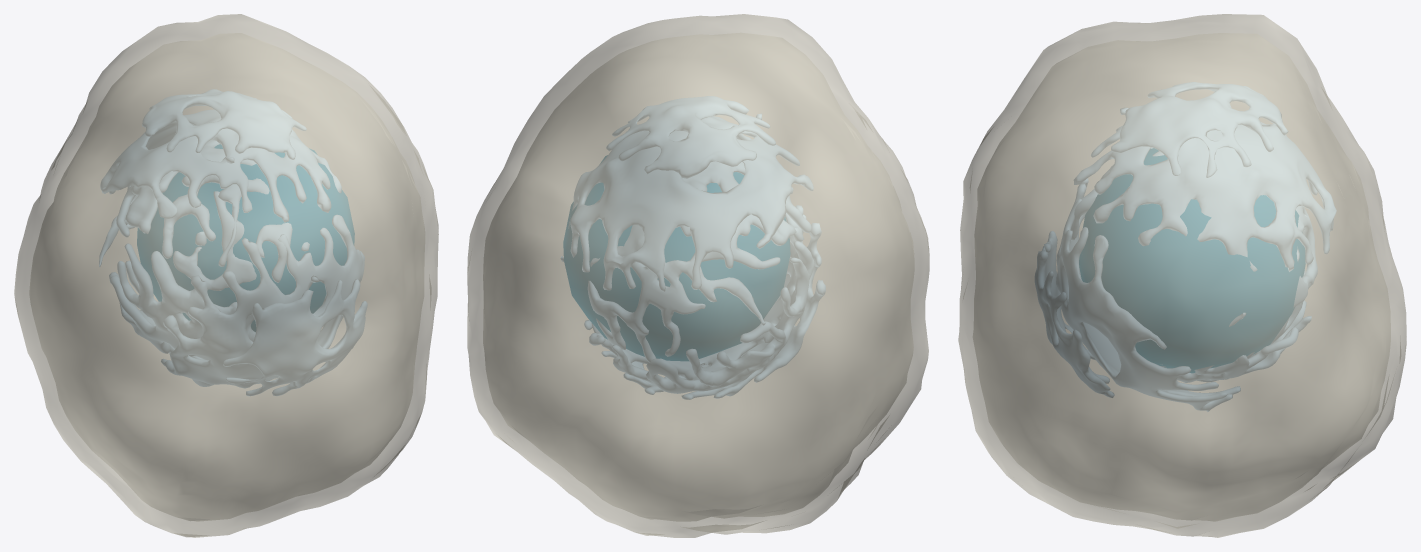
File: Cell.fbx
3 renders of one model, left to right at view 1: azimuth 30°, elevation 25°; view 2: azimuth 150°, elevation 25°; view 3: azimuth 270°, elevation 25°, orthographic. The views are drawn at different scales.
Visible parts, largest first — view 1: sphere, sphere1, pCube1, rough_ER002, ER_v001:rough_ER002, rough_ER003, rough_ER001, ER_v001:rough_ER003, ER_v001:rough_ER001; view 2: sphere, sphere1, ER_v001:rough_ER002, pCube1, ER_v001:rough_ER001, rough_ER001, ER_v001:rough_ER003, rough_ER002; view 3: sphere, sphere1, pCube1, ER_v001:rough_ER002, rough_ER002, ER_v001:rough_ER003, rough_ER003, rough_ER001, ER_v001:rough_ER001.
Boxes of the visible parts, left/top/right/bottom form: sphere: left=14, top=14, right=438, bottom=537; sphere1: left=29, top=33, right=424, bottom=521; pCube1: left=137, top=144, right=354, bottom=331; rough_ER002: left=161, top=215, right=364, bottom=388; ER_v001:rough_ER002: left=100, top=110, right=341, bottom=222; rough_ER003: left=223, top=276, right=367, bottom=395; rough_ER001: left=109, top=191, right=256, bottom=359; ER_v001:rough_ER003: left=142, top=89, right=306, bottom=163; ER_v001:rough_ER001: left=99, top=140, right=309, bottom=282; sphere: left=467, top=14, right=929, bottom=537; sphere1: left=483, top=33, right=914, bottom=521; ER_v001:rough_ER002: left=569, top=116, right=813, bottom=291; pCube1: left=563, top=155, right=790, bottom=360; ER_v001:rough_ER001: left=588, top=161, right=811, bottom=361; rough_ER001: left=561, top=213, right=814, bottom=393; ER_v001:rough_ER003: left=606, top=96, right=775, bottom=178; rough_ER002: left=584, top=205, right=825, bottom=399; sphere: left=958, top=14, right=1406, bottom=537; sphere1: left=973, top=33, right=1390, bottom=521; pCube1: left=1079, top=148, right=1305, bottom=372; ER_v001:rough_ER002: left=1074, top=122, right=1336, bottom=271; rough_ER002: left=1056, top=178, right=1240, bottom=411; ER_v001:rough_ER003: left=1111, top=82, right=1288, bottom=177; rough_ER003: left=1035, top=231, right=1114, bottom=397; rough_ER001: left=1162, top=301, right=1311, bottom=382; ER_v001:rough_ER001: left=1071, top=148, right=1317, bottom=358.
Bounding box in the file's own units: 251 × 307 × 248.
